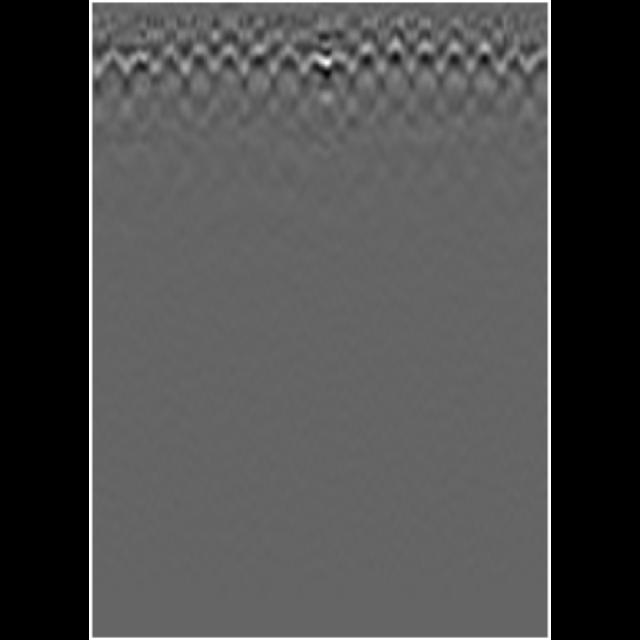hyperbola: (205, 39, 252, 79), (145, 42, 197, 78), (345, 36, 385, 82), (494, 40, 538, 80), (432, 40, 476, 80), (407, 38, 447, 78), (122, 48, 168, 82), (179, 39, 217, 79), (271, 43, 309, 81), (241, 44, 281, 80), (467, 39, 501, 79), (294, 46, 334, 78), (94, 48, 130, 82), (321, 52, 361, 80), (382, 36, 414, 70)
